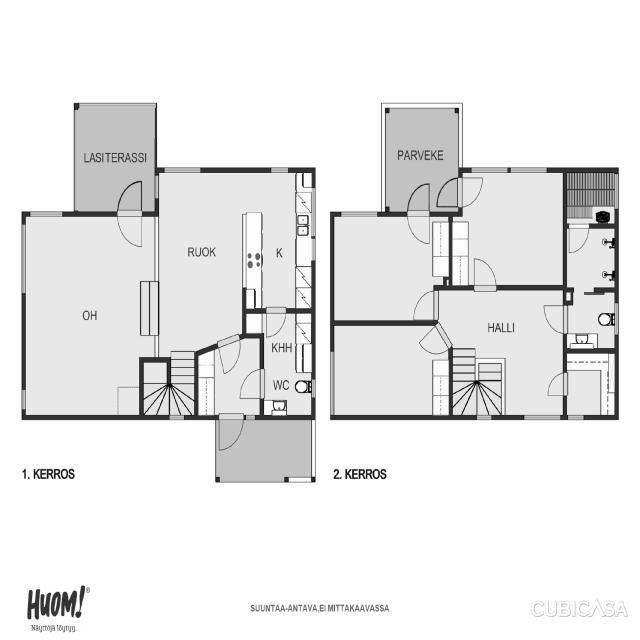door: (116, 177, 144, 251), (405, 180, 432, 245), (435, 175, 468, 210), (216, 411, 244, 451), (216, 336, 242, 376), (471, 254, 498, 292), (457, 173, 485, 209), (237, 367, 267, 400), (541, 302, 570, 335), (412, 289, 438, 321), (416, 326, 442, 358), (566, 222, 591, 255), (264, 306, 288, 339), (544, 369, 568, 398)
window: (463, 163, 555, 178), (19, 221, 29, 297), (159, 162, 204, 176), (310, 178, 318, 255), (468, 162, 511, 176), (520, 410, 560, 425), (508, 163, 550, 177), (338, 208, 380, 221), (328, 346, 336, 414), (26, 208, 65, 220), (612, 301, 622, 338), (266, 162, 293, 175), (152, 173, 161, 202), (614, 174, 621, 210), (565, 412, 587, 423), (165, 412, 186, 422), (20, 387, 28, 412), (310, 376, 318, 399), (310, 236, 317, 262), (474, 413, 492, 423), (244, 413, 259, 423)
zone: (22, 212, 151, 420), (154, 171, 244, 354), (446, 287, 566, 414), (452, 169, 565, 288), (332, 213, 446, 324), (331, 322, 451, 418), (244, 170, 312, 312), (262, 314, 314, 419), (195, 358, 262, 417), (565, 224, 618, 293), (564, 350, 618, 417), (563, 290, 617, 352), (564, 168, 619, 223), (210, 335, 247, 390)
